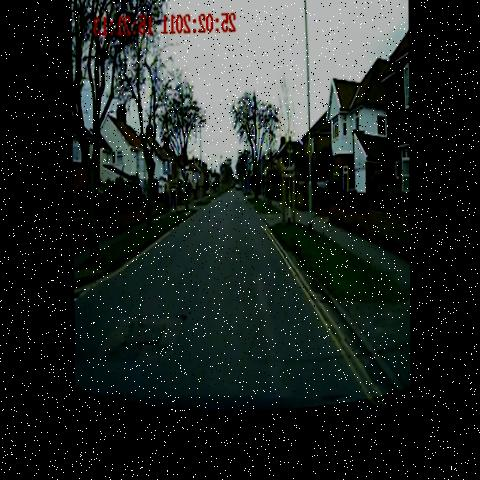pothole: (96, 286, 194, 379)
